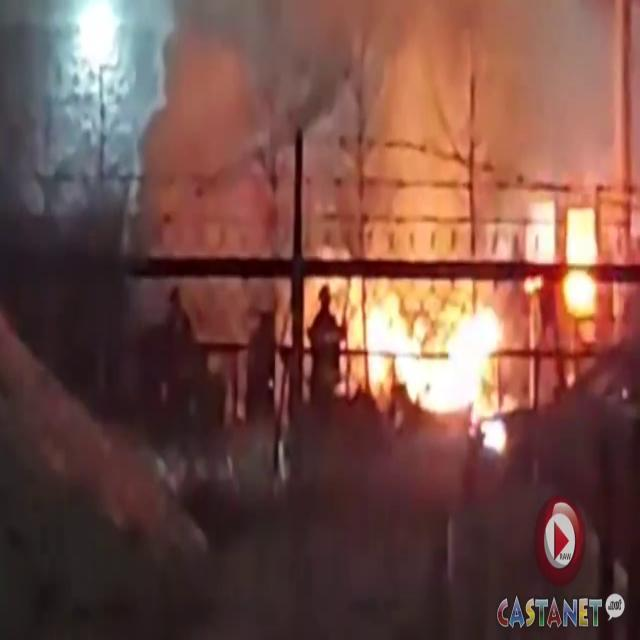Fire: (334, 248, 522, 436)
Smoke: (147, 1, 618, 230)
